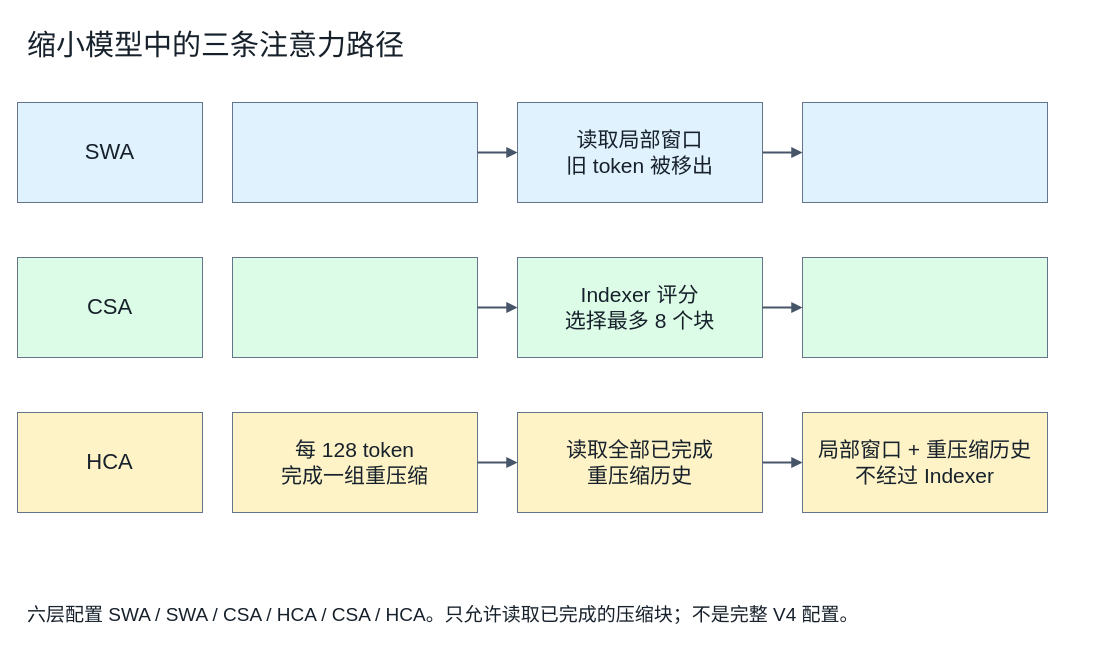
This 1095x669 diagram has some shape labels left out. Each missing label, with the centre of its shape:
局部窗口 + 所选历史 gather 后做 Attention: [925,307]
最近 128 token 共享 K=V: [355,152]
有限局部状态 没有压缩历史: [925,152]
每 4 token 完成压缩 与前一组重叠: [355,307]
